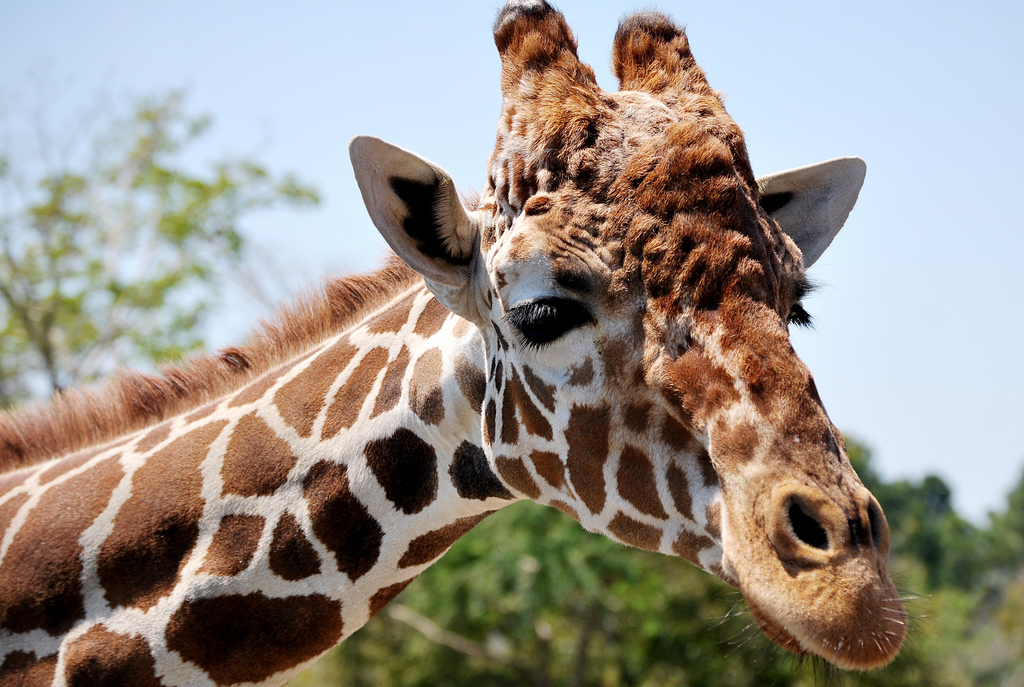giraffe: (85, 46, 926, 677)
